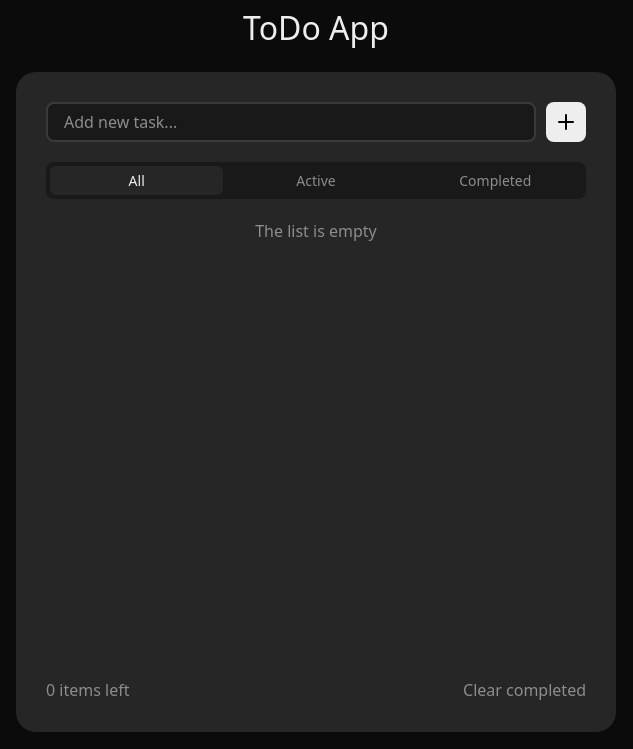
Test: Todo App › счётчик оставшихся и Clear completed
Type "Задача 1" into the field with placeholder "Add new task...".
click(291, 122); type("Задача 1")  # box [46,102,536,142]
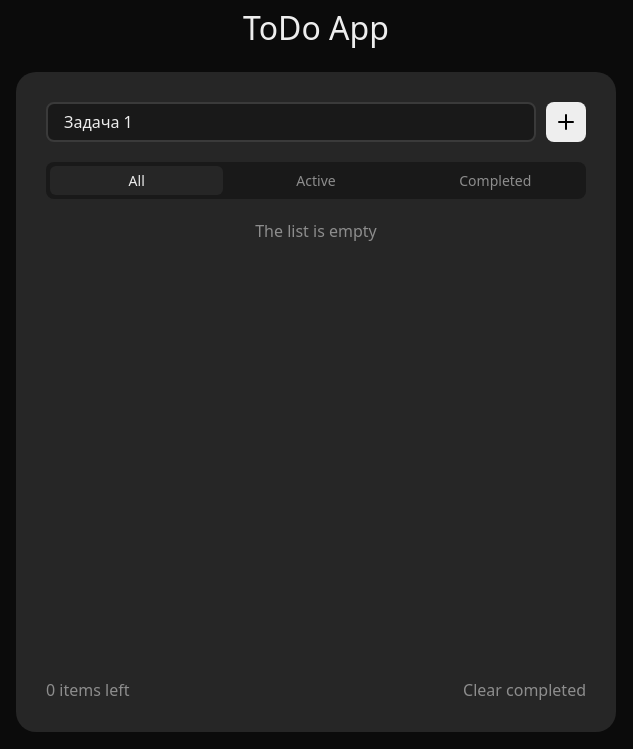
Press Enter in the field with placeholder "Add new task...", box [46,102,536,142]
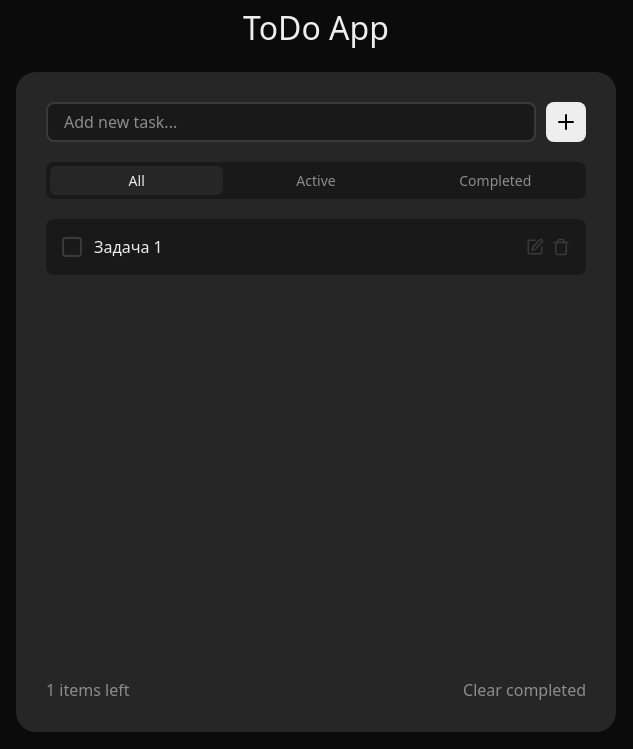
Type "Задача 2" into the field with placeholder "Add new task...".
click(291, 122); type("Задача 2")  # box [46,102,536,142]
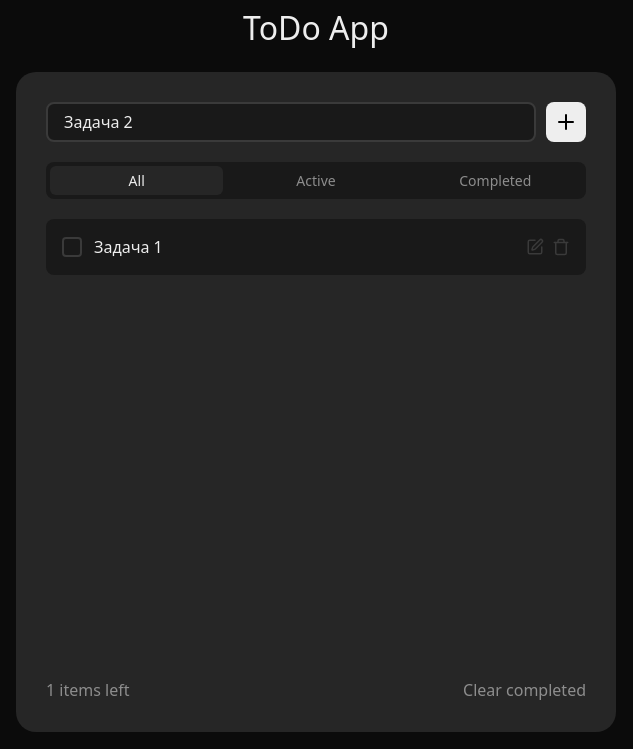
Press Enter in the field with placeholder "Add new task...", box [46,102,536,142]
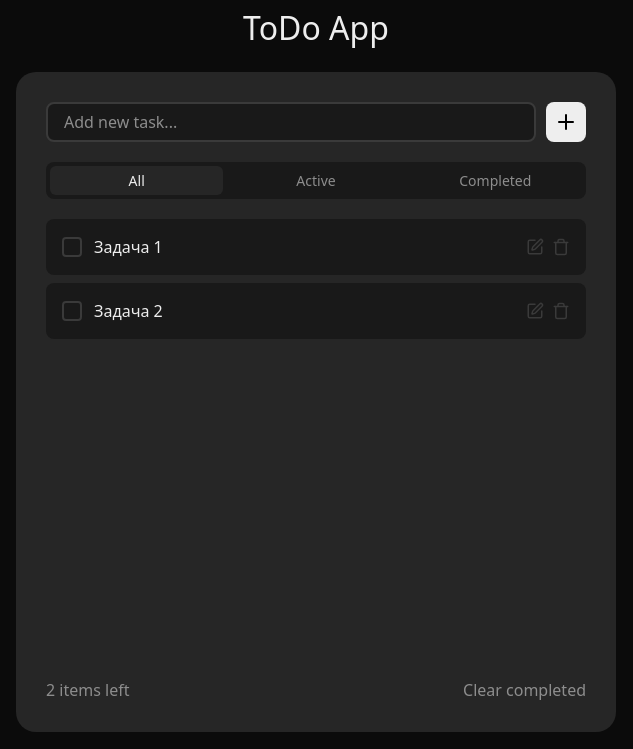
Expected: the text "2 items left" is shown, [46,678,130,702]
Click the checkbox next to "Задача 1".
click(72, 247)  # box [62,237,82,257]
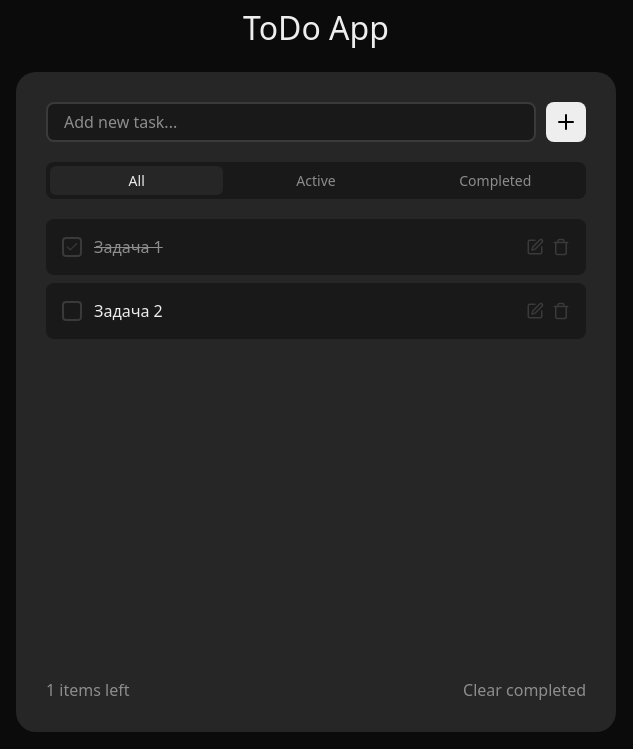
Expected: the text "1 items left" is shown, [46,678,130,702]
Click the button "Clear completed".
click(524, 690)  # box [463,678,586,702]
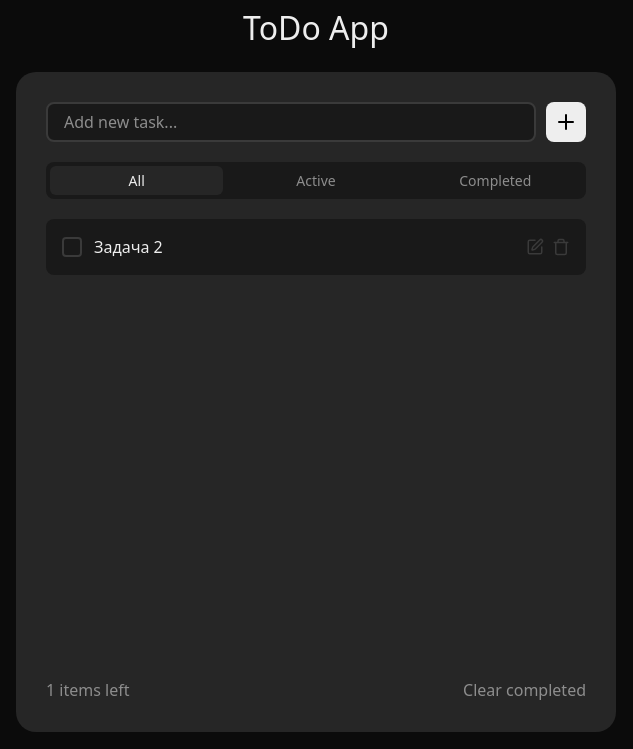
Expected: the text "1 items left" is shown, [46,678,130,702]
Expected: the text "Задача 1" is gone
